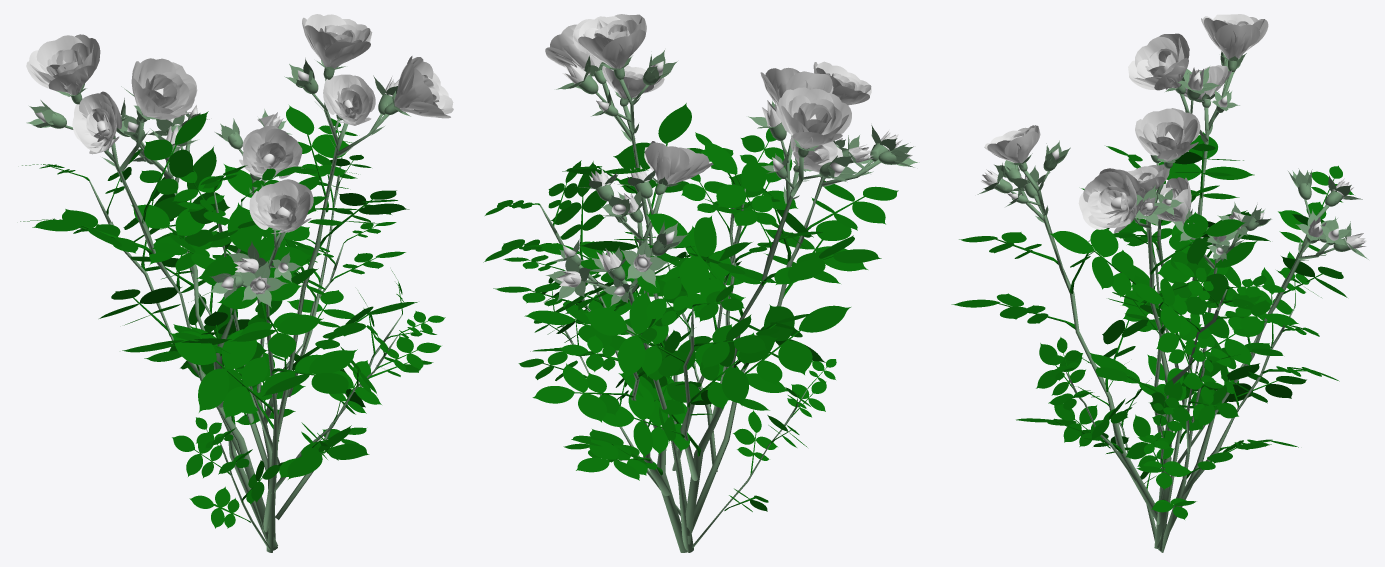
File: LBSR_Bush_rose.fbx
3 views of the same model, side by side, from view 1: azimuth 30°, elevation 25°; view 2: azimuth 150°, elevation 25°; view 3: azimuth 270°, elevation 25° (orthographic). The views are drawn at different scales.
Parts seen in each view (by area): view 1: leaves, petals, roots, small leaves, bulbs; view 2: leaves, petals, roots, small leaves, bulbs; view 3: leaves, petals, roots, small leaves, bulbs.
Boxes of the visible parts, <box> form: leaves: <box>20,105,445,528</box>; petals: <box>26,14,453,294</box>; roots: <box>43,79,436,552</box>; small leaves: <box>26,58,410,307</box>; bulbs: <box>48,66,397,290</box>; leaves: <box>483,103,898,511</box>; petals: <box>545,14,912,296</box>; roots: <box>506,79,888,552</box>; small leaves: <box>546,50,919,306</box>; bulbs: <box>571,65,898,292</box>; leaves: <box>951,132,1353,519</box>; petals: <box>981,14,1365,255</box>; roots: <box>994,72,1334,552</box>; small leaves: <box>977,51,1368,268</box>; bulbs: <box>1005,60,1350,251</box>.
Bounding box in the file's own units: 1.24 × 1.61 × 1.32.
